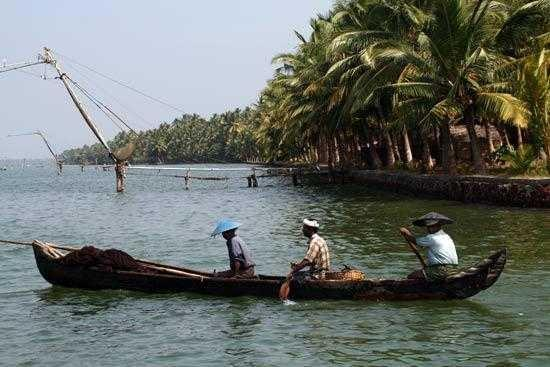kayak: (34, 242, 518, 305)
